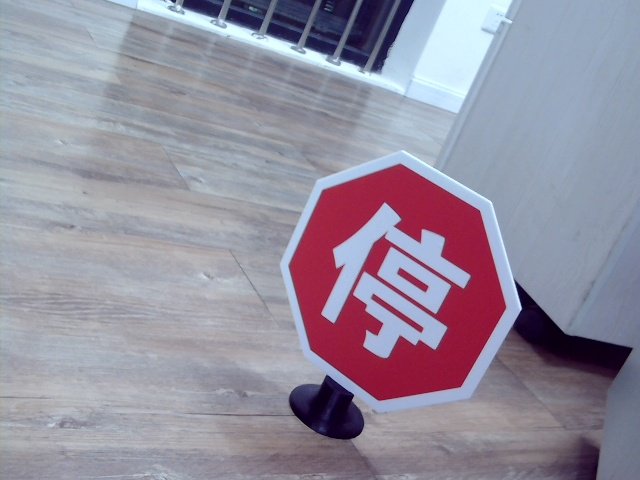stop: (323, 197, 472, 359)
